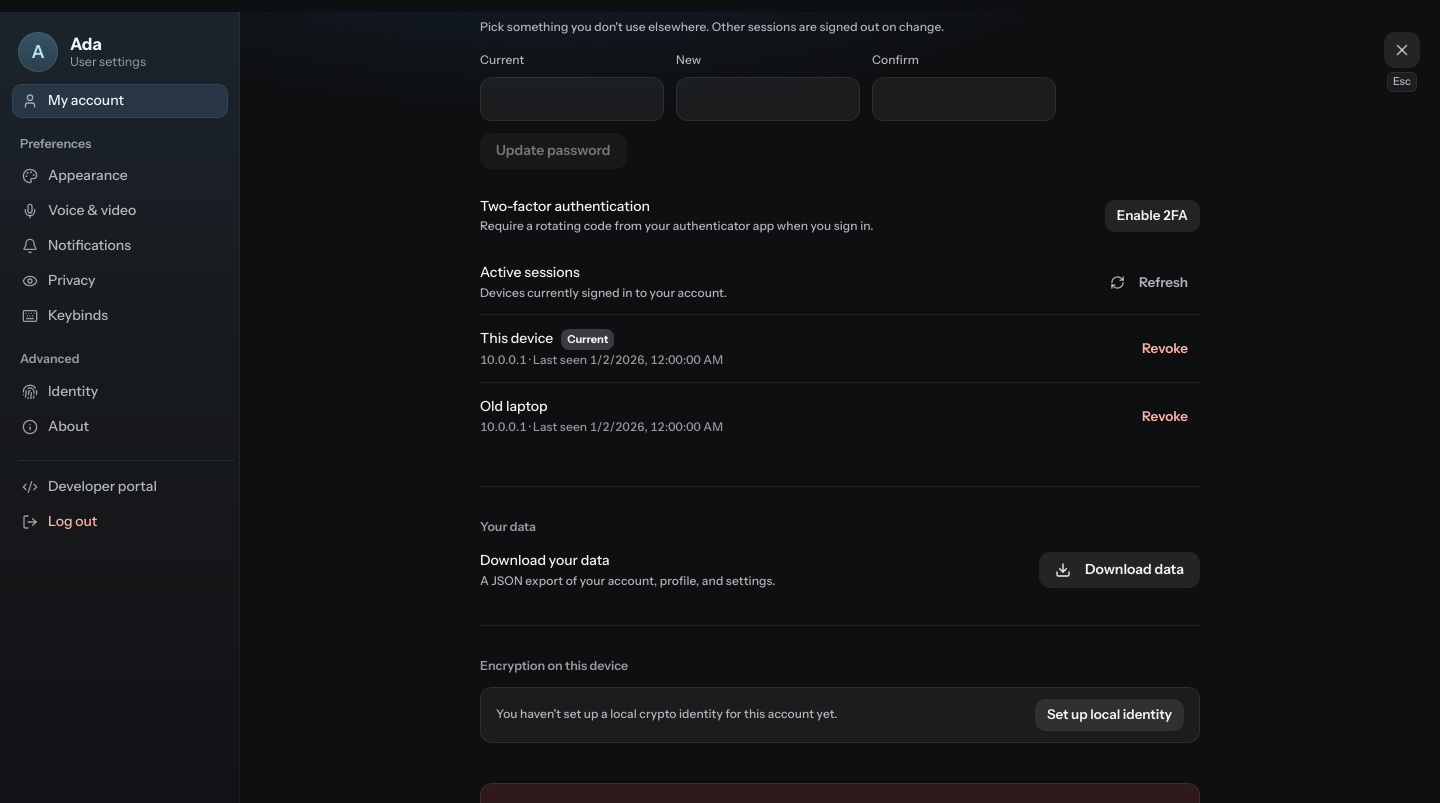
Test case: UserSettings session management › revokes the selected session once confirmed
(page scrolled)
Expected: the text "Old laptop" is shown, x1=480 y1=397 x2=548 y2=417
Click the button "Revoke" in the row of "Old laptop": click(1165, 416) x1=1130 y1=400 x2=1200 y2=432
(page scrolled)
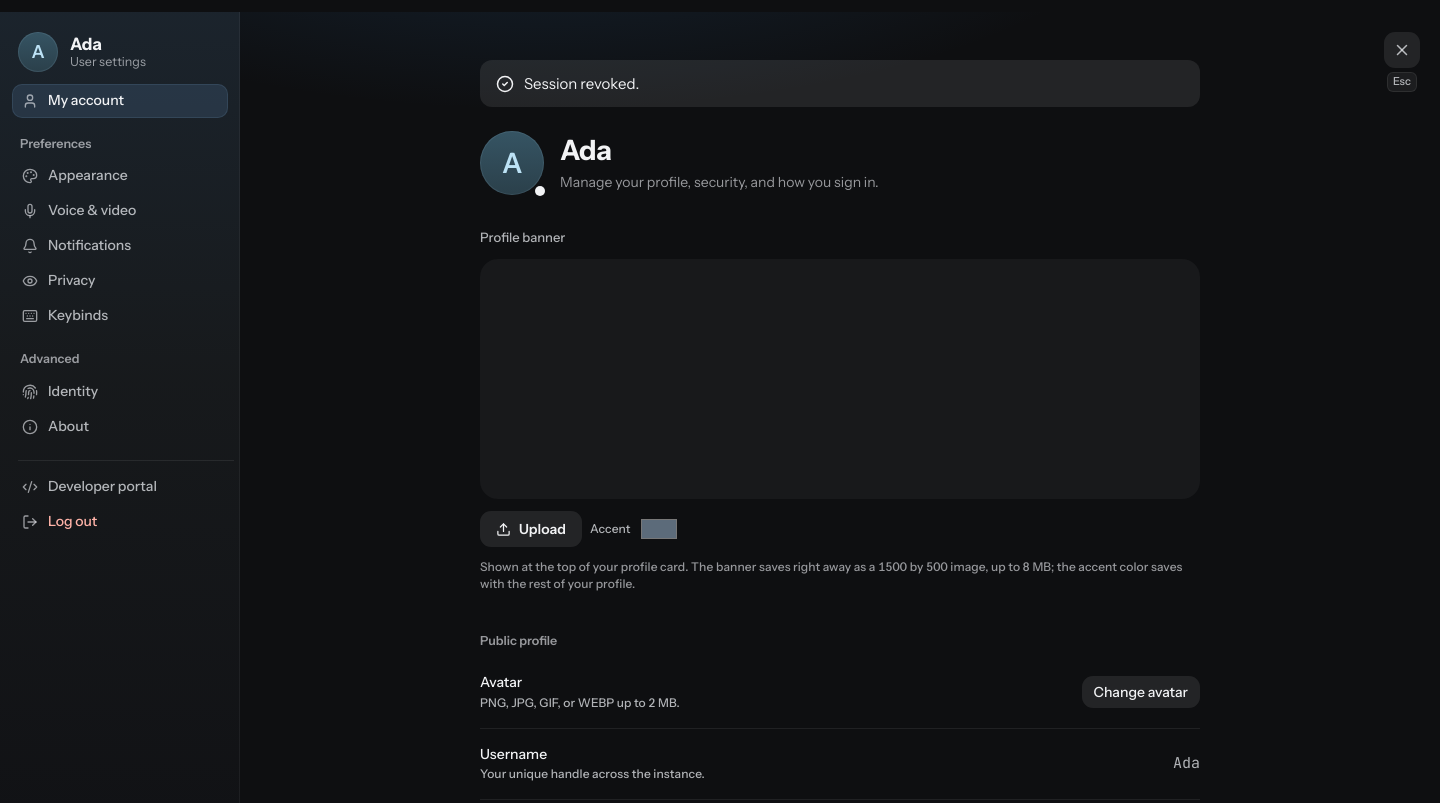
Now the text "Old laptop" is gone
Now the text "Session revoked." is shown, box x1=524 y1=72 x2=639 y2=95
